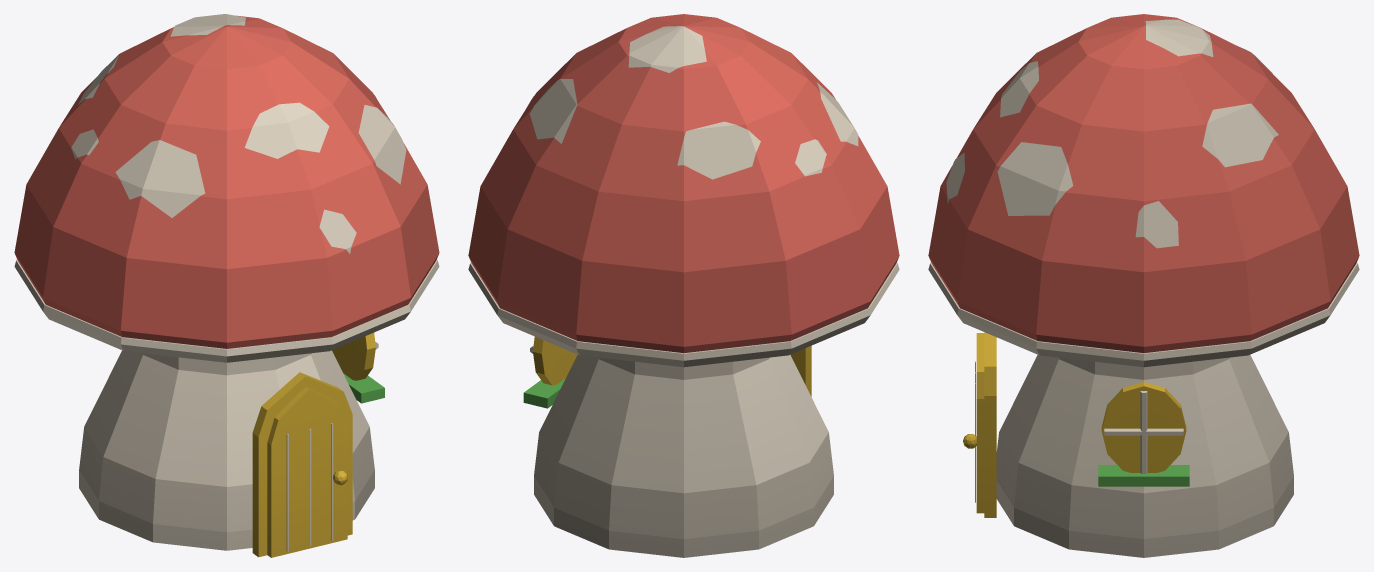
The model's file is mushroom-house.glb.
3 views of the same model, side by side, from view 1: azimuth 30°, elevation 25°; view 2: azimuth 150°, elevation 25°; view 3: azimuth 270°, elevation 25° (orthographic).
Parts seen in each view (by area): view 1: pulse_mesh, root_mesh; view 2: pulse_mesh, root_mesh; view 3: pulse_mesh, root_mesh.
Part boxes in pixels (x1,y1,x2,y2): pulse_mesh: (14, 14, 439, 362); root_mesh: (79, 332, 384, 557); pulse_mesh: (468, 14, 899, 367); root_mesh: (523, 336, 833, 557); pulse_mesh: (928, 14, 1359, 367); root_mesh: (963, 332, 1293, 557).
Bounding box in the file's own units: 2.5 × 3 × 2.5.
